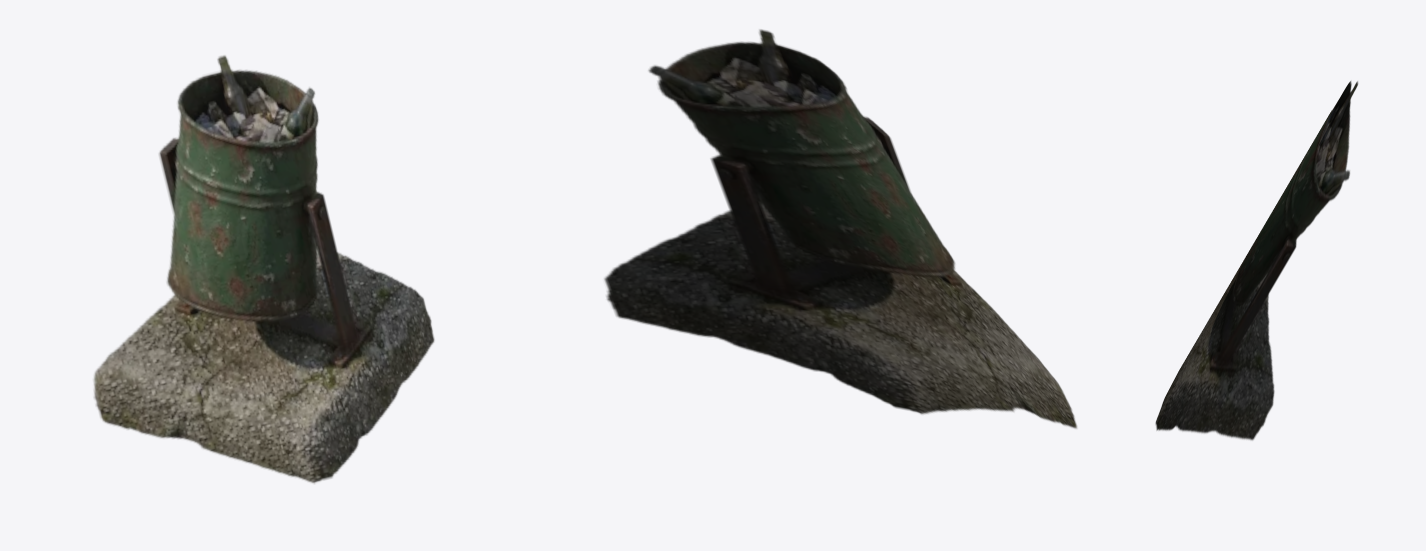
File: small_trash_bin.glb
The picture shows the model from 3 angles, left to right: view 1: azimuth 30°, elevation 25°; view 2: azimuth 150°, elevation 25°; view 3: azimuth 270°, elevation 25°; orthographic projection. The views are drawn at different scales.
Parts seen in each view (by area): view 1: small_trash_bin; view 2: small_trash_bin; view 3: small_trash_bin.
Part boxes in pixels (<box>): small_trash_bin: <box>93,55,434,483</box>; small_trash_bin: <box>604,29,1077,428</box>; small_trash_bin: <box>1155,81,1358,440</box>.
Size of the model in its own units: 1.25 by 1.32 by 0.8162.
Materials: 1 (1 with a texture image).
